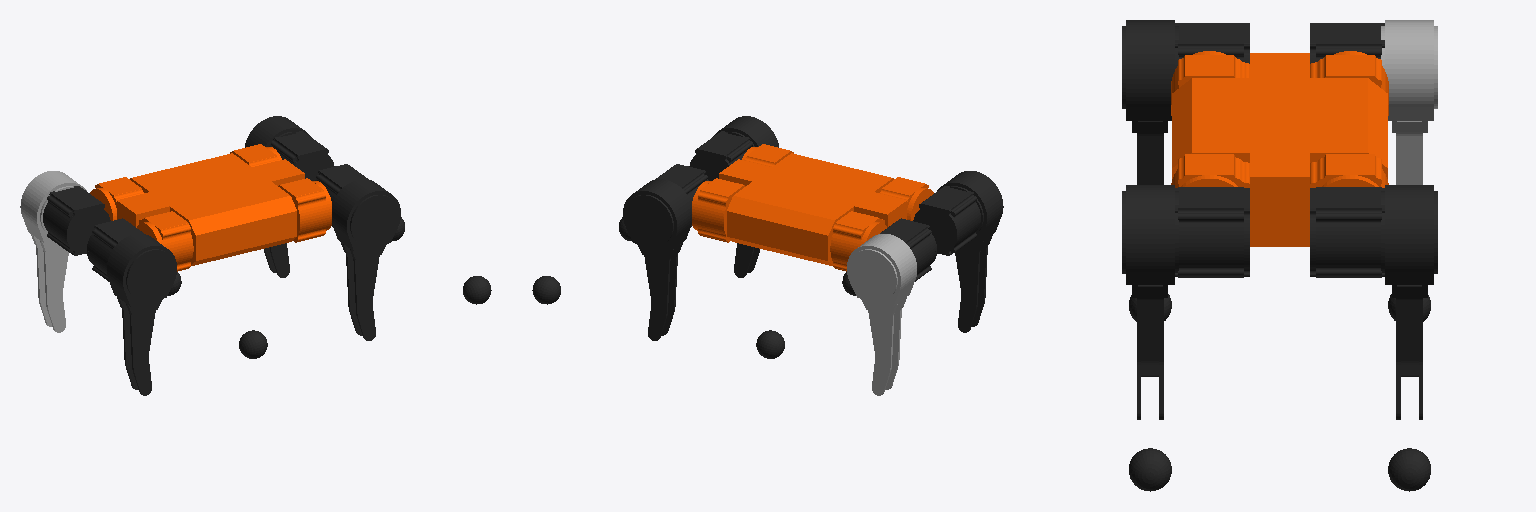
The robot description file, URDF, robot "rbq3":
<?xml version="1.0" ?>
<!-- =================================================================================== -->
<!-- |    This document was autogenerated by xacro from robot.xacro                    | -->
<!-- |    EDITING THIS FILE BY HAND IS NOT RECOMMENDED                                 | -->
<!-- =================================================================================== -->
<robot name="rbq3">
  <material name="black">
    <color rgba="0.0 0.0 0.0 1.0"/>
  </material>
  <material name="blue">
    <color rgba="0.0 0.0 0.8 1.0"/>
  </material>
  <material name="green">
    <color rgba="0.0 0.8 0.0 1.0"/>
  </material>
  <material name="grey">
    <color rgba="0.2 0.2 0.2 1.0"/>
  </material>
  <material name="silver">
    <color rgba="0.913725490196 0.913725490196 0.847058823529 1.0"/>
  </material>
  <material name="orange">
    <color rgba="1.0 0.423529411765 0.0392156862745 1.0"/>
  </material>
  <material name="brown">
    <color rgba="0.870588235294 0.811764705882 0.764705882353 1.0"/>
  </material>
  <material name="red">
    <color rgba="0.8 0.0 0.0 1.0"/>
  </material>
  <material name="white">
    <color rgba="1.0 1.0 1.0 1.0"/>
  </material>

  <!-- ========================== Torso ========================== -->
  <link name="trunk">
    <visual>
	  <origin rpy="0 0 0" xyz="0 0 0"/>
      <geometry>
		<mesh filename="trunk1.dae" scale="1 1 1"/>
      </geometry>
      <material name="orange"/>
    </visual>
    <collision>
      <origin rpy="0 0 0" xyz="0 0 0.0084"/>
      <geometry>
        <box size="0.3 0.15 0.0168"/>
      </geometry>
    </collision>
    <inertial>
      <origin rpy="0 0 0" xyz="-0.34e-03 -0.01e-03 -3.57e-03"/>
      <mass value="11.5756"/>
      <inertia ixx="66750053.32e-09" ixy="-63531.87e-09" ixz="-79250.07e-09" iyy="124905646.11e-09" iyz="-22005.65e-09" izz="177312065.71e-09"/>
    </inertial>
  </link>
  
  <joint name="hip_fixed" type="fixed">
    <origin rpy="0 0 0" xyz="0 0 0"/>
    <parent link="trunk"/>
    <child link="hip_roll_motor"/>
  </joint>
  <link name="hip_roll_motor">
    <visual>
	  <origin rpy="0 0 0" xyz="0 0 0"/>
      <geometry>
		<mesh filename="trunk2.stl" scale="1 1 1"/>
      </geometry>
      <material name="orange"/>
    </visual>
  </link>


  <!-- ========================== Rear Right ========================== -->
  <joint name="RR_hip_joint" type="revolute">
    <origin rpy="0 0 0" xyz="-0.22445 -0.07946 0"/>
    <parent link="trunk"/>
    <child link="RR_hip"/>
    <axis xyz="1 0 0"/>
    <dynamics rotor_inertia="0.00008" damping="0" friction="0"/>
    <limit effort="20" lower="-6.28" upper="6.28" velocity="52.4"/>
  </joint>
  <link name="RR_hip">
    <visual>
      <origin rpy="3.14159265359 3.14159265359 0" xyz="0 0 0"/>
      <geometry>
        <mesh filename="hip.stl" scale="1 1 1"/>
      </geometry>
      <material name="grey"/>
    </visual>
    <collision>
      <origin rpy="1.57079632679 0 0" xyz="0 0.021 0"/>
      <geometry>
        <cylinder length="0.089" radius="0.0445"/>
      </geometry>
    </collision>
    <inertial>
      <origin rpy="0 0 0" xyz="4.51e-03 -17.58e-03 0.04e-03"/>
      <mass value="2.38674"/>
      <inertia ixx="3437636.42e-09" ixy="120456.91e-09" ixz="-569.13e-09" iyy="2718636.62e-09" iyz="-3826.95e-09" izz="3437712.56e-09"/>
    </inertial>
  </link>
  <joint name="RR_thigh_joint" type="revolute">
    <origin rpy="0 0 0" xyz="0 -0.06995 0"/>
    <parent link="RR_hip"/>
    <child link="RR_thigh"/>
    <axis xyz="0 1 0"/>
    <dynamics rotor_inertia="0.000065" damping="0" friction="0"/>
    <limit effort="30" lower="-6.28" upper="6.28" velocity="28.6"/>
	<!--limit effort="55" lower="-1.5708" upper="3.92699081699" velocity="28.6"/-->
  </joint>
  <link name="RR_thigh">
    <visual>
      <origin rpy="0 0 0" xyz="0 0 0"/>
      <geometry>
        <mesh filename="thigh.dae" scale="1 1 1"/>
      </geometry>
      <material name="grey"/>
    </visual>
    <collision>
      <origin rpy="0 1.57079632679 0" xyz="0 0 -0.1125"/>
      <geometry>
        <box size="0.225 0.04 0.04"/>
      </geometry>
    </collision>
    <inertial>
      <origin rpy="0 0 0" xyz="-2.26e-03 -7.68e-03 -41.12e-03"/>
      <mass value="0.67231"/>
      <inertia ixx="3146944.77e-09" ixy="-4356.11e-09" ixz="98512.25e-09" iyy="3429086.75e-09" iyz="-158744.35e-09" izz="636166.40e-09"/>
    </inertial>
  </link>
  <joint name="RR_calf_joint" type="revolute">
    <origin rpy="0 0 0" xyz="0 0 -0.225"/>
    <parent link="RR_thigh"/>
    <child link="RR_calf"/>
    <axis xyz="0 1 0"/>
    <dynamics rotor_inertia="0.00005" damping="0" friction="0"/>
    <limit effort="30" lower="-2.77507351067" upper="-0.610865238198" velocity="28.6"/>
  </joint>
  <link name="RR_calf">
    <visual>
      <origin rpy="0 0 0" xyz="0 0 0"/>
      <geometry>
        <mesh filename="calf.stl" scale="1 1 1"/>
      </geometry>
      <material name="silver"/>
    </visual>
    <collision>
      <origin rpy="0 1.57079632679 0" xyz="0 0 -0.1125"/>
      <geometry>
        <box size="0.225 0.025 0.025"/>
      </geometry>
    </collision>
    <inertial>
      <origin rpy="0 0 0" xyz="0.75e-03 0.35e-03 -88.03e-03"/>
      <mass value="0.173"/>
      <inertia ixx="1256859.90e-09" ixy="13.94e-09" ixz="-1349.76e-09" iyy="1263569.86e-09" iyz="-10047.10e-09" izz="18848.54e-09"/>
    </inertial>
  </link>
  <joint name="RR_foot_fixed" type="fixed">
    <origin rpy="0 0 0" xyz="0 0 -0.225"/>
    <parent link="RR_calf"/>
    <child link="RR_foot"/>
  </joint>
  <link name="RR_foot">
    <visual>
      <origin rpy="0 0 0" xyz="0 0 0"/>
      <geometry>
        <sphere radius="0.025"/>
      </geometry>
	  <material name="grey"/>
    </visual>
    <collision>
      <origin rpy="0 0 0" xyz="0 0 0"/>
      <geometry>
        <sphere radius="0.025"/>
      </geometry>
    </collision>
    <inertial>
      <!--<mass value="0.02003"/>-->
      <mass value="0.0"/>
      <inertia ixx="1930e-09" ixy="0.0" ixz="0.0" iyy="2895e-09" iyz="0.0" izz="1930e-09"/>
    </inertial>
  </link>

  <!-- ========================== Rear Left ========================== -->
  <joint name="RL_hip_joint" type="revolute">
    <origin rpy="0 0 0" xyz="-0.22445 0.07946 0"/>
    <parent link="trunk"/>
    <child link="RL_hip"/>
    <axis xyz="1 0 0"/>
    <dynamics rotor_inertia="0.00008" damping="0" friction="0"/>
    <limit effort="30" lower="-6.28" upper="6.28" velocity="52.4"/>
  </joint>
  <link name="RL_hip">
    <visual>
      <origin rpy="0 3.14159265359 0" xyz="0 0 0"/>
      <geometry>
        <mesh filename="hip.stl" scale="1 1 1"/>
      </geometry>
      <material name="grey"/>
    </visual>
    <collision>
      <origin rpy="1.57079632679 0 0" xyz="0 -0.021 0"/>
      <geometry>
        <cylinder length="0.089" radius="0.0445"/>
      </geometry>
    </collision>
    <inertial>
      <origin rpy="0 0 0" xyz="4.51e-03 17.58e-03 0.04e-03"/>
      <mass value="2.38674"/>
      <inertia ixx="3437636.42e-09" ixy="-120456.91e-09" ixz="-569.13e-09" iyy="2718636.62e-09" iyz="3826.95e-09" izz="3437712.56e-09"/>
    </inertial>
  </link>
  <joint name="RL_thigh_joint" type="revolute">
    <origin rpy="0 0 0" xyz="0 0.06995 0"/>
    <parent link="RL_hip"/>
    <child link="RL_thigh"/>
    <axis xyz="0 1 0"/>
    <dynamics rotor_inertia="0.000065" damping="0" friction="0"/>
    <limit effort="30" lower="-6.28" upper="6.28" velocity="28.6"/>
	<!--limit effort="55" lower="-1.5708" upper="3.92699081699" velocity="28.6"/-->
  </joint>
  <link name="RL_thigh">
    <visual>
      <origin rpy="0 0 0" xyz="0 0 0"/>
      <geometry>
        <mesh filename="thigh.dae" scale="1 1 1"/>
      </geometry>
    </visual>
    <collision>
      <origin rpy="0 1.57079632679 0" xyz="0 0 -0.1125"/>
      <geometry>
        <box size="0.225 0.04 0.04"/>
      </geometry>
    </collision>
    <inertial>
      <origin rpy="0 0 0" xyz="-2.26e-03 7.68e-03 -41.12e-03"/>
      <mass value="0.67231"/>
      <inertia ixx="3146944.77e-09" ixy="4356.11e-09" ixz="98512.25e-09" iyy="3429086.75e-09" iyz="158744.35e-09" izz="636166.40e-09"/>
    </inertial>
  </link>
  <joint name="RL_calf_joint" type="revolute">
    <origin rpy="0 0 0" xyz="0 0 -0.225"/>
    <parent link="RL_thigh"/>
    <child link="RL_calf"/>
    <axis xyz="0 1 0"/>
    <dynamics rotor_inertia="0.00005" damping="0" friction="0"/>
    <limit effort="30" lower="-2.77507351067" upper="-0.610865238198" velocity="28.6"/>
  </joint>
  <link name="RL_calf">
    <visual>
      <origin rpy="0 0 0" xyz="0 0 0"/>
      <geometry>
        <mesh filename="calf.stl" scale="1 1 1"/>
      </geometry>
    </visual>
    <collision>
      <origin rpy="0 1.57079632679 0" xyz="0 0 -0.125"/>
      <geometry>
        <box size="0.225 0.025 0.025"/>
      </geometry>
    </collision>
    <inertial>
      <origin rpy="0 0 0" xyz="0.75e-03 0.35e-03 -88.03e-03"/>
      <mass value="0.173"/>
      <inertia ixx="1256859.90e-09" ixy="13.94e-09" ixz="-1349.76e-09" iyy="1263569.86e-09" iyz="-10047.10e-09" izz="18848.54e-09"/>
    </inertial>
  </link>
  <joint name="RL_foot_fixed" type="fixed">
    <origin rpy="0 0 0" xyz="0 0 -0.225"/>
    <parent link="RL_calf"/>
    <child link="RL_foot"/>
  </joint>
  <link name="RL_foot">
    <visual>
      <origin rpy="0 0 0" xyz="0 0 0"/>
      <geometry>
        <sphere radius="0.025"/>
      </geometry>
	  <material name="grey"/>
    </visual>
    <collision>
      <origin rpy="0 0 0" xyz="0 0 0"/>
      <geometry>
        <sphere radius="0.025"/>
      </geometry>
    </collision>
    <inertial>
      <!--<mass value="0.02003"/>-->
      <mass value="0.0"/>
      <inertia ixx="1930e-09" ixy="0.0" ixz="0.0" iyy="2895e-09" iyz="0.0" izz="1930e-09"/>
    </inertial>
  </link>


  <!-- ========================== Front Right ========================== -->
  <joint name="FR_hip_joint" type="revolute">
    <origin rpy="0 0 0" xyz="0.22445 -0.07946 0"/>
    <parent link="trunk"/>
    <child link="FR_hip"/>
    <axis xyz="1 0 0"/>
    <dynamics rotor_inertia="0.00008" damping="0" friction="0"/>
    <limit effort="30" lower="-6.28" upper="6.28" velocity="52.4"/>
  </joint>
  <link name="FR_hip">
    <visual>
      <origin rpy="3.14159265359 0 0" xyz="0 0 0"/>
      <geometry>
        <mesh filename="hip.stl" scale="1 1 1"/>
      </geometry>
      <material name="grey"/>
    </visual>
    <collision>
      <origin rpy="1.57079632679 0 0" xyz="0 0.021 0"/>
      <geometry>
        <cylinder length="0.089" radius="0.0445"/>
      </geometry>
    </collision>
    <inertial>
      <origin rpy="0 0 0" xyz="-4.51e-03 -17.58e-03 0.04e-03"/>
      <mass value="2.38674"/>
      <inertia ixx="3437636.42e-09" ixy="-120456.91e-09" ixz="569.13e-09" iyy="2718636.62e-09" iyz="-3826.95e-09" izz="3437712.56e-09"/>
    </inertial>
  </link>
  <joint name="FR_thigh_joint" type="revolute">
    <origin rpy="0 0 0" xyz="0 -0.06995 0"/>
    <parent link="FR_hip"/>
    <child link="FR_thigh"/>
    <axis xyz="0 1 0"/>
    <dynamics rotor_inertia="0.000065" damping="0" friction="0"/>
    <limit effort="30" lower="-6.28" upper="6.28" velocity="28.6"/>
	<!--limit effort="55" lower="-1.5708" upper="3.92699081699" velocity="28.6"/-->
  </joint>
  <link name="FR_thigh">
    <visual>
      <origin rpy="0 0 0" xyz="0 0 0"/>
      <geometry>
        <mesh filename="thigh.dae" scale="1 1 1"/>
      </geometry>
      <material name="grey"/>
    </visual>
    <collision>
      <origin rpy="0 1.57079632679 0" xyz="0 0 -0.1125"/>
      <geometry>
        <box size="0.225 0.04 0.04"/>
      </geometry>
    </collision>
    <inertial>
      <origin rpy="0 0 0" xyz="-2.26e-03 -7.68e-03 -41.12e-03"/>
      <mass value="0.67231"/>
      <inertia ixx="3146944.77e-09" ixy="-4356.11e-09" ixz="98512.25e-09" iyy="3429086.75e-09" iyz="-158744.35e-09" izz="636166.40e-09"/>
    </inertial>
  </link>
  <joint name="FR_calf_joint" type="revolute">
    <origin rpy="0 0 0" xyz="0 0 -0.225"/>
    <parent link="FR_thigh"/>
    <child link="FR_calf"/>
    <axis xyz="0 1 0"/>
    <dynamics rotor_inertia="0.00005" damping="0" friction="0"/>
    <limit effort="30" lower="-2.77507351067" upper="-0.610865238198" velocity="28.6"/>
  </joint>
  <link name="FR_calf">
    <visual>
      <origin rpy="0 0 0" xyz="0 0 0"/>
      <geometry>
        <mesh filename="calf.stl" scale="1 1 1"/>
      </geometry>
      <material name="silver"/>
    </visual>
    <collision>
      <origin rpy="0 1.57079632679 0" xyz="0 0 -0.1125"/>
      <geometry>
        <box size="0.225 0.025 0.025"/>
      </geometry>
    </collision>
    <inertial>
      <origin rpy="0 0 0" xyz="0.75e-03 0.35e-03 -88.03e-03"/>
      <mass value="0.173"/>
      <inertia ixx="1256859.90e-09" ixy="13.94e-09" ixz="-1349.76e-09" iyy="1263569.86e-09" iyz="-10047.10e-09" izz="18848.54e-09"/>
    </inertial>
  </link>
  <joint name="FR_foot_fixed" type="fixed">
    <origin rpy="0 0 0" xyz="0 0 -0.225"/>
    <parent link="FR_calf"/>
    <child link="FR_foot"/>
  </joint>
  <link name="FR_foot">
    <visual>
      <origin rpy="0 0 0" xyz="0 0 0"/>
      <geometry>
        <sphere radius="0.025"/>
      </geometry>
	  <material name="grey"/>
    </visual>
    <collision>
      <origin rpy="0 0 0" xyz="0 0 0"/>
      <geometry>
        <sphere radius="0.025"/>
      </geometry>
    </collision>
    <inertial>
      <!--<mass value="0.02003"/>-->
      <mass value="0.0"/>
      <inertia ixx="1930e-09" ixy="0.0" ixz="0.0" iyy="2895e-09" iyz="0.0" izz="1930e-09"/>
    </inertial>
  </link>

  <!-- ========================== Front Left ========================== -->
  <joint name="FL_hip_joint" type="revolute">
    <origin rpy="0 0 0" xyz="0.22445 0.07946 0"/>
    <parent link="trunk"/>
    <child link="FL_hip"/>
    <axis xyz="1 0 0"/>
    <dynamics rotor_inertia="0.00008" damping="0" friction="0"/>
    <limit effort="30" lower="-6.28" upper="6.28" velocity="52.4"/>
  </joint>
  <link name="FL_hip">
    <visual>
      <origin rpy="0 0 0" xyz="0 0 0"/>
      <geometry>
        <mesh filename="hip.stl" scale="1 1 1"/>
      </geometry>
      <material name="grey"/>
    </visual>
    <collision>
      <origin rpy="1.57079632679 0 0" xyz="0 -0.021 0"/>
      <geometry>
        <cylinder length="0.089" radius="0.0445"/>
      </geometry>
    </collision>
    <inertial>
      <origin rpy="0 0 0" xyz="-4.51e-03 17.58e-03 0.04e-03"/>
      <mass value="2.38674"/>
      <inertia ixx="3437636.42e-09" ixy="120456.91e-09" ixz="569.13e-09" iyy="2718636.62e-09" iyz="3826.95e-09" izz="3437712.56e-09"/>
    </inertial>
  </link>
  <joint name="FL_thigh_joint" type="revolute">
    <origin rpy="0 0 0" xyz="0 0.06995 0"/>
    <parent link="FL_hip"/>
    <child link="FL_thigh"/>
    <axis xyz="0 1 0"/>
    <dynamics rotor_inertia="0.000065" damping="0" friction="0"/>
    <limit effort="30" lower="-6.28" upper="6.28" velocity="28.6"/>
  </joint>
  <link name="FL_thigh">
    <visual>
      <origin rpy="0 0 0" xyz="0 0 0"/>
      <geometry>
        <mesh filename="thigh.dae" scale="1 1 1"/>
      </geometry>
      <material name="grey"/>
    </visual>
    <collision>
      <origin rpy="0 1.57079632679 0" xyz="0 0 -0.1125"/>
      <geometry>
        <box size="0.225 0.04 0.04"/>
      </geometry>
    </collision>
    <inertial>
      <origin rpy="0 0 0" xyz="-2.26e-03 7.68e-03 -41.12e-03"/>
      <mass value="0.67231"/>
      <inertia ixx="3146944.77e-09" ixy="4356.11e-09" ixz="98512.25e-09" iyy="3429086.75e-09" iyz="158744.35e-09" izz="636166.40e-09"/>
    </inertial>
  </link>
  <joint name="FL_calf_joint" type="revolute">
    <origin rpy="0 0 0" xyz="0 0 -0.225"/>
    <parent link="FL_thigh"/>
    <child link="FL_calf"/>
    <axis xyz="0 1 0"/>
    <dynamics rotor_inertia="0.00005" damping="0" friction="0"/>
    <limit effort="30" lower="-2.77507351067" upper="-0.610865238198" velocity="28.6"/>
  </joint>
  <link name="FL_calf">
    <visual>
      <origin rpy="0 0 0" xyz="0 0 0"/>
      <geometry>
        <mesh filename="calf.stl" scale="1 1 1"/>
      </geometry>
      <material name="silver"/>
    </visual>
    <collision>
      <origin rpy="0 1.57079632679 0" xyz="0 0 -0.1125"/>
      <geometry>
        <box size="0.225 0.025 0.025"/>
      </geometry>
    </collision>
    <inertial>
      <origin rpy="0 0 0" xyz="0.75e-03 0.35e-03 -88.03e-03"/>
      <mass value="0.173"/>
      <inertia ixx="1256859.90e-09" ixy="13.94e-09" ixz="-1349.76e-09" iyy="1263569.86e-09" iyz="-10047.10e-09" izz="18848.54e-09"/>
    </inertial>
  </link>
  <joint name="FL_foot_fixed" type="fixed">
    <origin rpy="0 0 0" xyz="0 0 -0.225"/>
    <parent link="FL_calf"/>
    <child link="FL_foot"/>
  </joint>
  <link name="FL_foot">
    <visual>
      <origin rpy="0 0 0" xyz="0 0 0"/>
      <geometry>
        <sphere radius="0.025"/>
      </geometry>
	  <material name="grey"/>
    </visual>
    <collision>
      <origin rpy="0 0 0" xyz="0 0 0"/>
      <geometry>
        <sphere radius="0.025"/>
      </geometry>
    </collision>
    <inertial>
      <!--<mass value="0.02003"/>-->
      <mass value="0.0"/>
      <inertia ixx="1930e-09" ixy="0.0" ixz="0.0" iyy="2895e-09" iyz="0.0" izz="1930e-09"/>
    </inertial>
  </link>
</robot>

--- Facts derived from the render (not from the file) ---
Views: 3 orthographic renders of the robot side by side, from view 1: azimuth 30°, elevation 25°; view 2: azimuth 150°, elevation 25°; view 3: azimuth 270°, elevation 25°.
Model rbq3 with 18 links and 17 joints (12 revolute, 5 fixed), rooted at trunk, posed joints at zero except 4 at the middle of their limits (RR_calf_joint = -1.69, RL_calf_joint = -1.69, FR_calf_joint = -1.69, FL_calf_joint = -1.69).
Links seen in each view (by area): view 1: trunk, RR_thigh, FR_thigh, hip_roll_motor, RL_thigh, RL_hip, FL_hip, FL_thigh, RR_hip, FR_hip, RR_foot, FR_foot; view 2: trunk, RL_thigh, FL_thigh, hip_roll_motor, RR_thigh, RR_hip, FR_hip, FR_thigh, RL_hip, FL_hip, RL_foot, FL_foot; view 3: trunk, FR_thigh, FL_thigh, hip_roll_motor, RR_thigh, RL_thigh, FR_hip, FL_hip, RR_hip, RL_hip, FR_foot, FL_foot.
Link boxes in pixels (x1,y1,x2,y2): trunk: (117,153,304,265); RR_thigh: (107,234,176,395); FR_thigh: (332,179,400,340); hip_roll_motor: (90,144,331,271); RL_thigh: (20,171,86,332); RL_hip: (43,186,110,255); FL_hip: (271,131,334,180); FL_thigh: (245,116,310,277); RR_hip: (87,218,143,281); FR_hip: (315,164,368,226); RR_foot: (239,330,267,358); FR_foot: (463,276,491,304); trunk: (719,153,906,265); RL_thigh: (847,234,916,395); FL_thigh: (623,179,691,340); hip_roll_motor: (692,144,933,271); RR_thigh: (937,171,1003,332); RR_hip: (913,186,980,255); FR_hip: (689,131,752,180); FR_thigh: (713,116,778,277); RL_hip: (880,218,936,281); FL_hip: (655,164,708,226); RL_foot: (756,330,784,358); FL_foot: (532,276,560,304); trunk: (1172,53,1387,246); FR_thigh: (1122,185,1178,419); FL_thigh: (1381,185,1437,419); hip_roll_motor: (1171,51,1388,187); RR_thigh: (1122,20,1178,184); RL_thigh: (1381,20,1437,184); FR_hip: (1175,187,1249,277); FL_hip: (1310,187,1384,277); RR_hip: (1175,23,1249,63); RL_hip: (1310,23,1384,63); FR_foot: (1129,448,1171,491); FL_foot: (1388,448,1430,491).
Bounding box of the posed robot: 0.7516 × 0.3638 × 0.2915 m (x, y, z).
Meshes: 5 distinct files referenced, 10 mesh visuals loaded (2 binary STL, 2 Collada DAE); not drawn: 4 (reference not matched to a file when rendering).